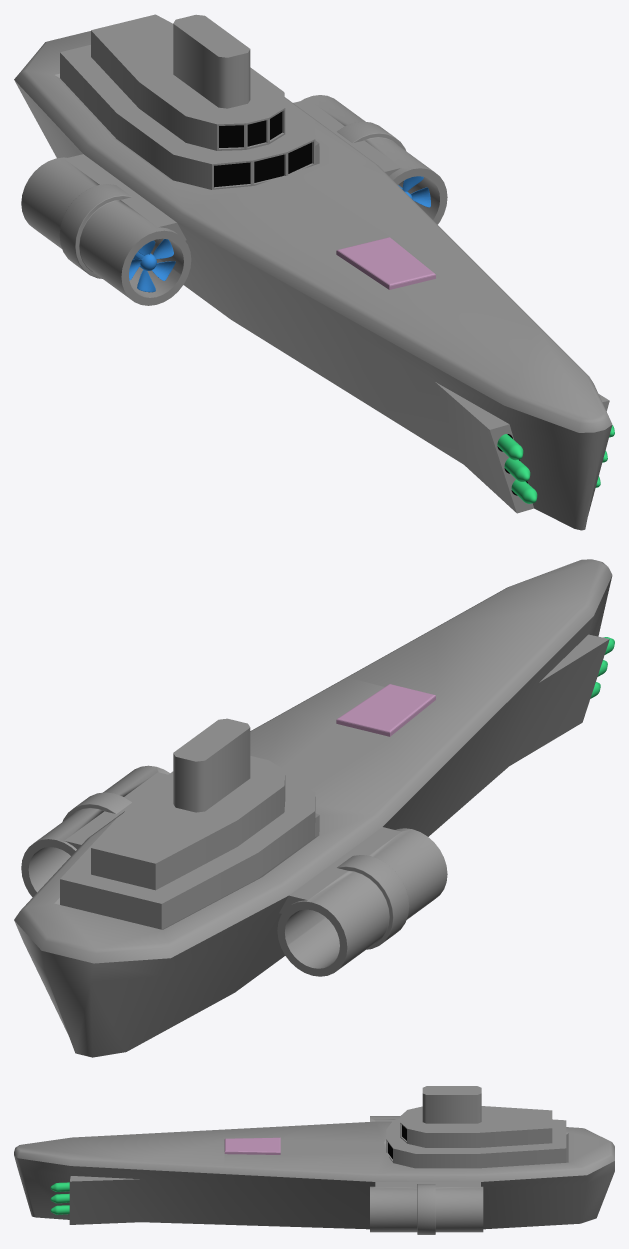
The model's file is Ship_substance.FBX.
3 renders of one model, top to bottom at view 1: azimuth 30°, elevation 25°; view 2: azimuth 150°, elevation 25°; view 3: azimuth 270°, elevation 25°, orthographic. The views are drawn at different scales.
Visible parts, largest first — view 1: Plane003; view 2: Plane003; view 3: Plane003.
Part boxes in pixels (x1,y1,x2,y2): Plane003: (14, 14, 614, 530); Plane003: (14, 559, 614, 1057); Plane003: (14, 1086, 614, 1234).
Size of the model in its own units: 130 by 82.56 by 358.
